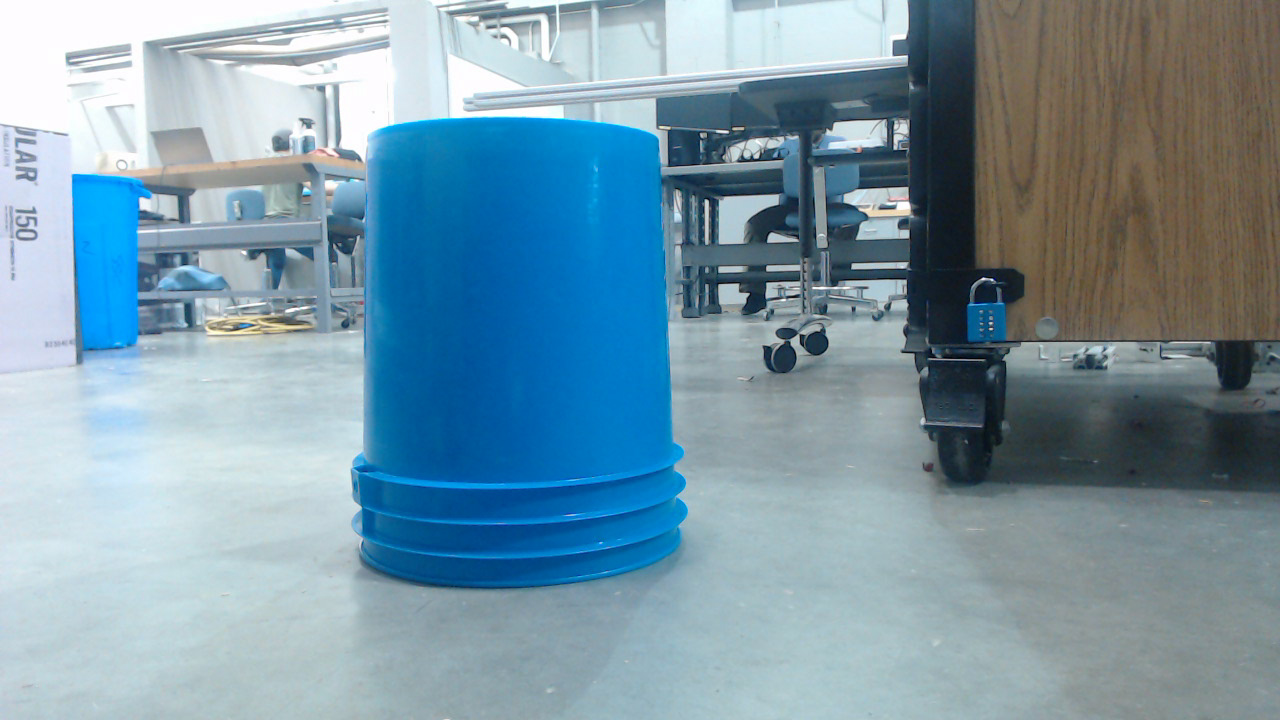blue_bucket: (353, 122, 693, 594)
